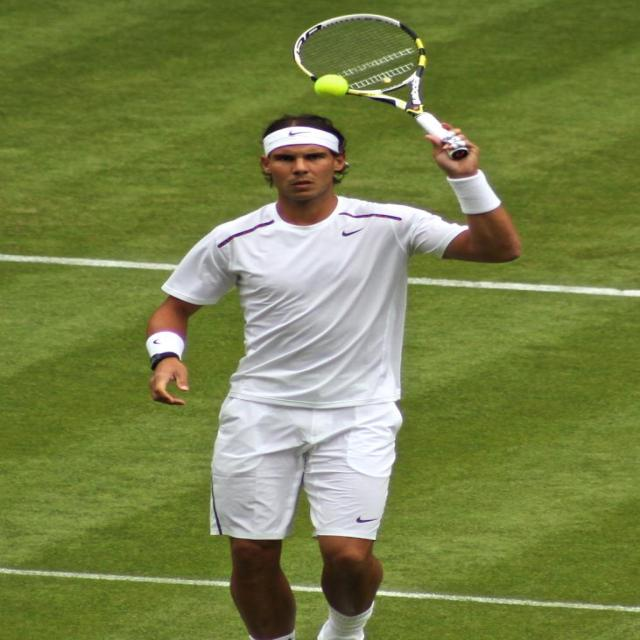Tennis ball: (310, 74, 345, 104)
